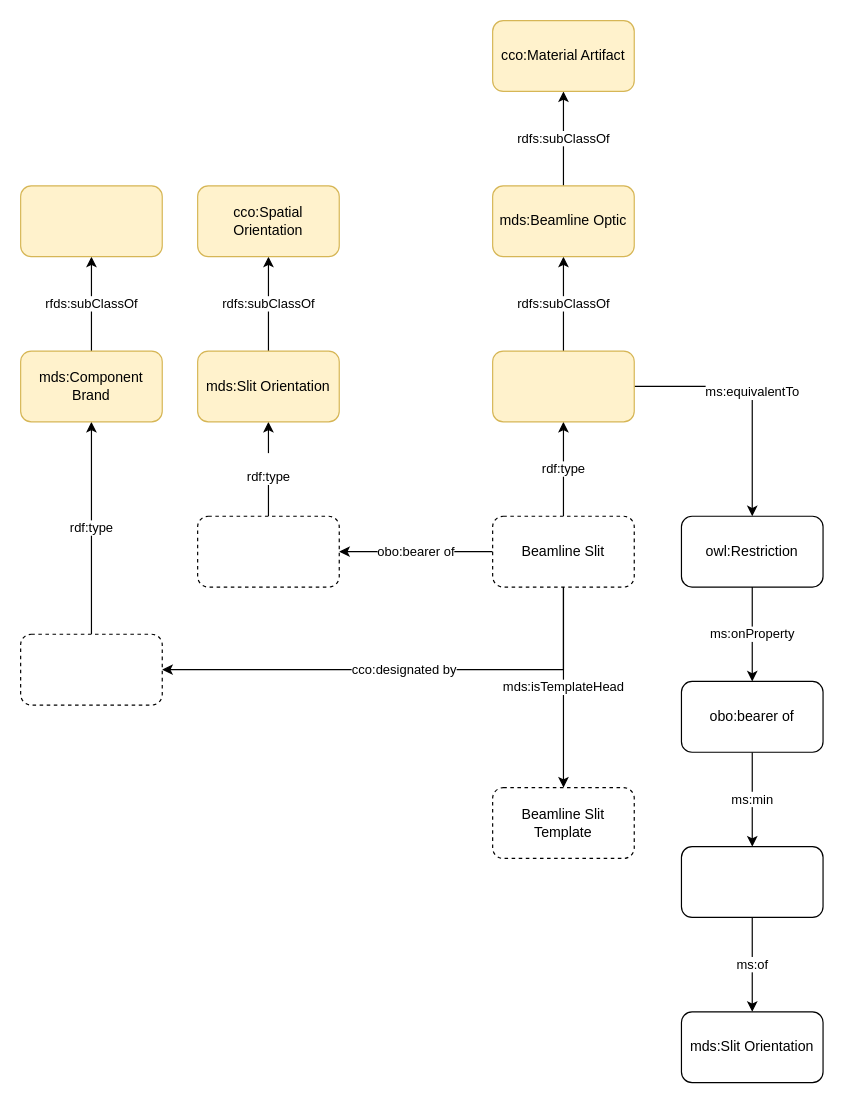
The diagram is 844 pixels wide and 1103 high, and some of its shapes have lost their labels. Here are the shapes that lost their labels. From the top down, the box of each, then its label:
(19, 185, 162, 257): mds:Name
(491, 350, 634, 422): mds:Slit
(196, 515, 339, 587): Beamline Slit Orientation
(19, 633, 162, 705): Beamline Slit Brand
(680, 845, 823, 917): "1"^^xsd:integer
